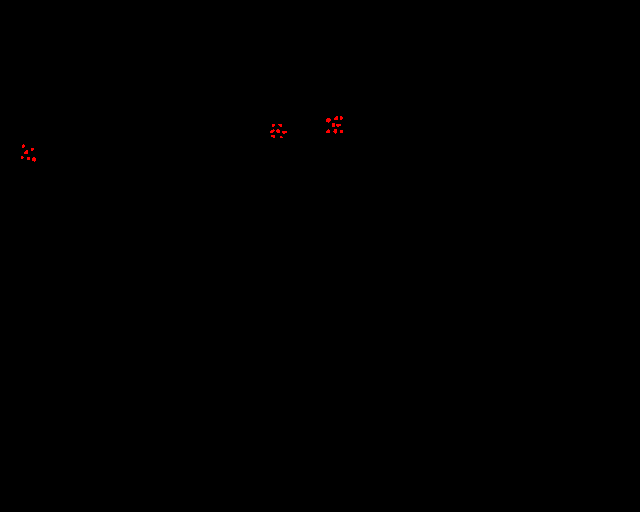Target: (326, 118, 331, 123), (270, 129, 275, 133), (333, 129, 337, 134), (32, 157, 36, 162), (334, 116, 338, 120), (276, 129, 280, 133), (326, 129, 330, 133), (24, 150, 28, 154), (336, 124, 341, 127), (282, 131, 287, 134), (340, 116, 343, 120), (332, 123, 335, 127), (278, 124, 282, 127), (271, 135, 275, 138), (22, 144, 25, 148), (272, 124, 275, 127), (340, 130, 343, 133), (31, 148, 34, 151), (21, 156, 24, 159), (27, 157, 30, 160), (280, 136, 283, 138)
